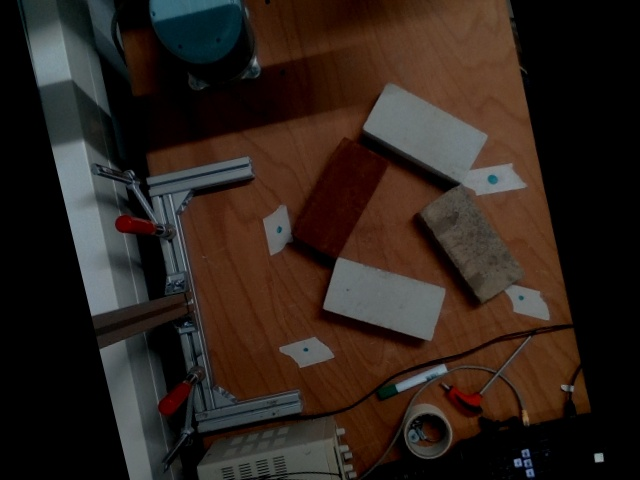brick: (417, 180, 530, 306), (362, 80, 489, 183), (290, 135, 392, 261), (322, 255, 448, 340)
